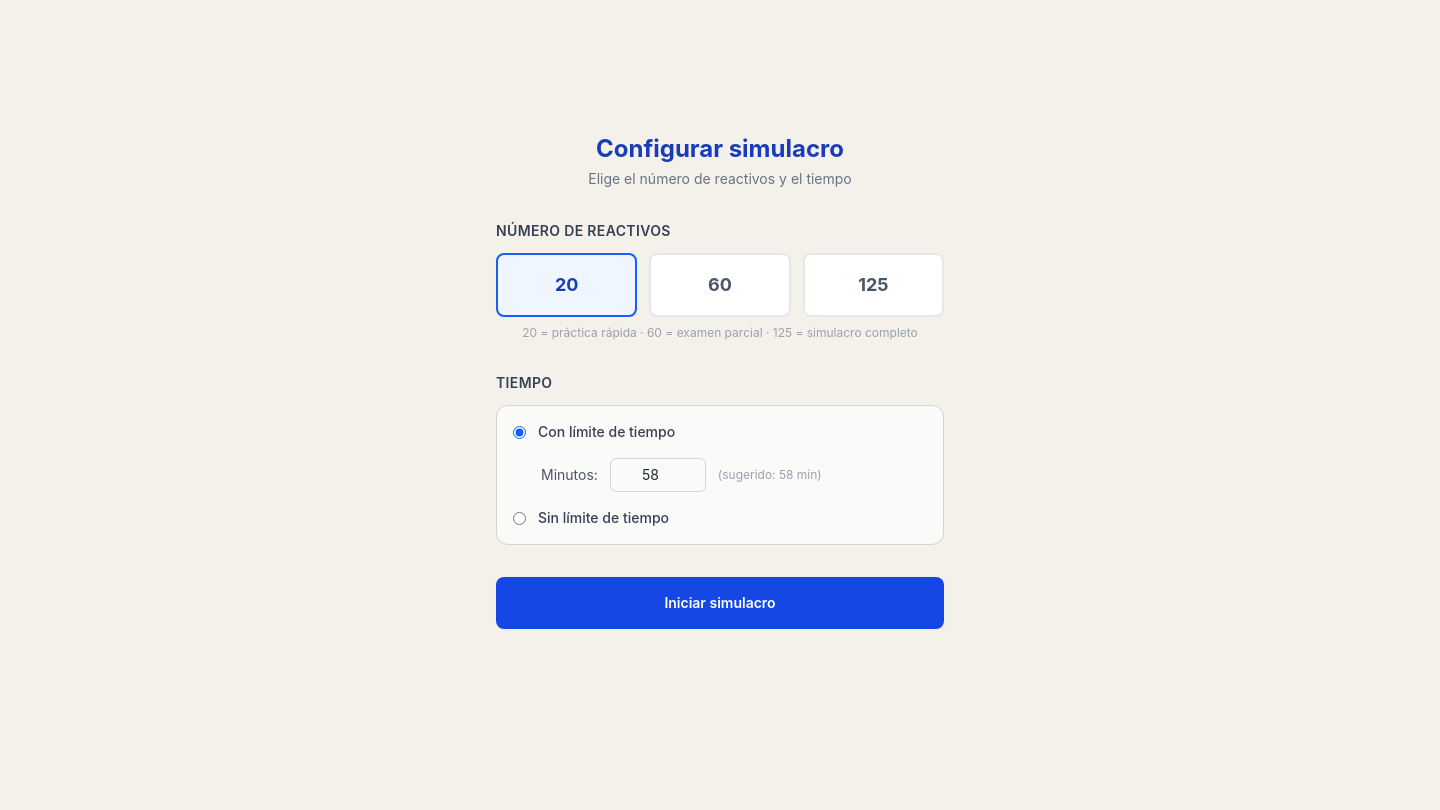
Test: SimulacroContainer › navega al flujo activo tras confirmar la configuración
Click the button "20": coordinates (567, 285) x1=496 y1=253 x2=637 y2=317
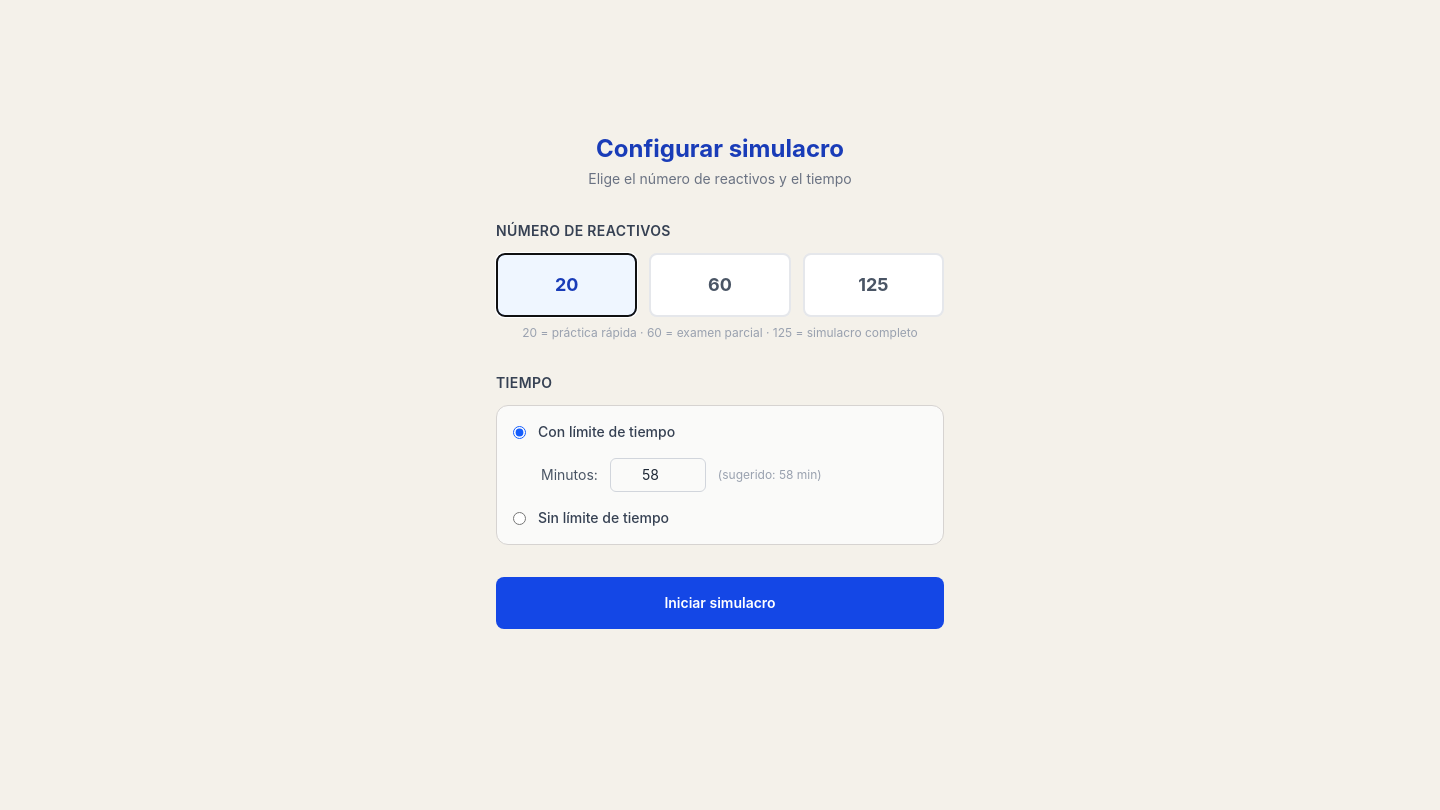
Click the button "Iniciar simulacro": coordinates (720, 603) x1=496 y1=577 x2=944 y2=629
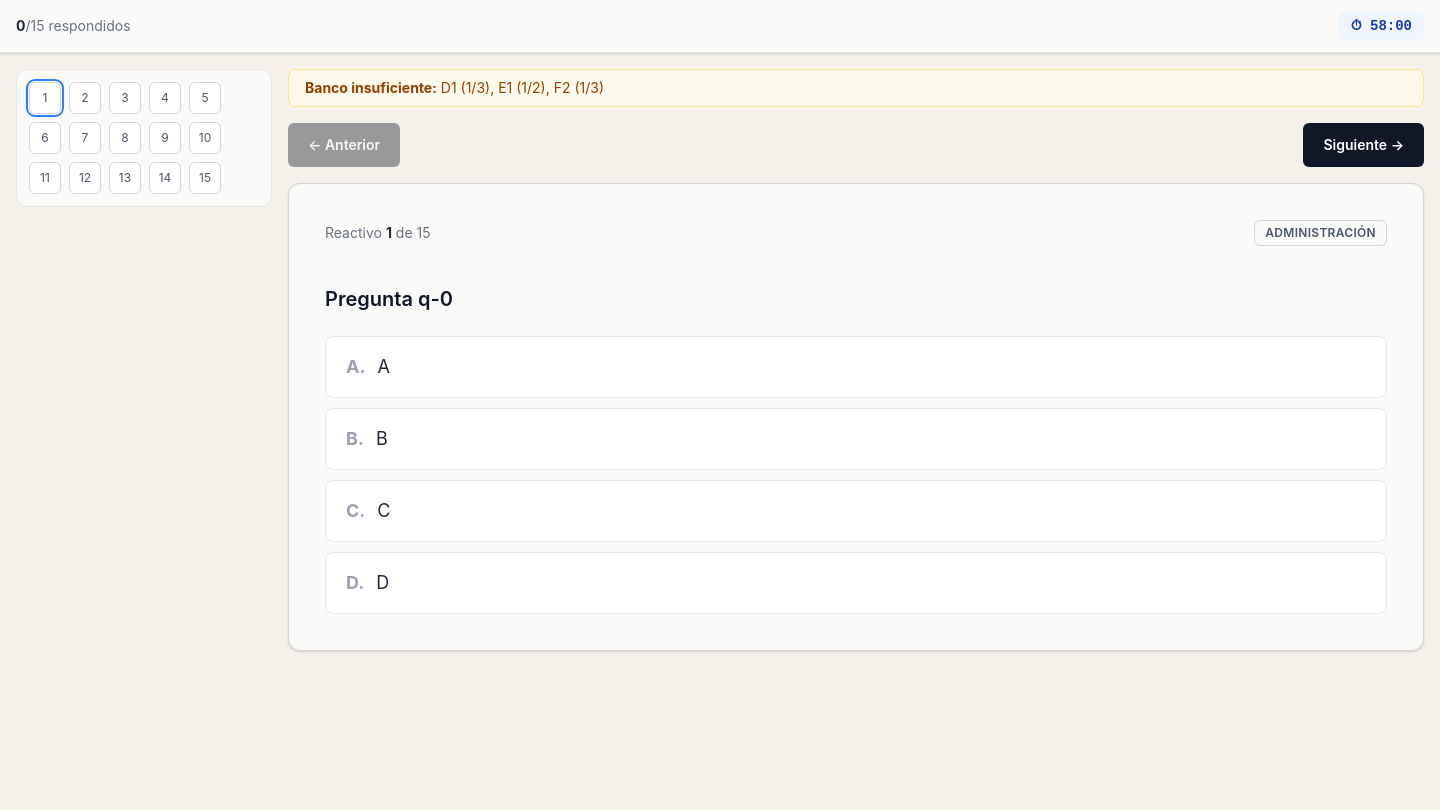
Now the button "Siguiente →" is shown, box x1=1303 y1=123 x2=1424 y2=167
